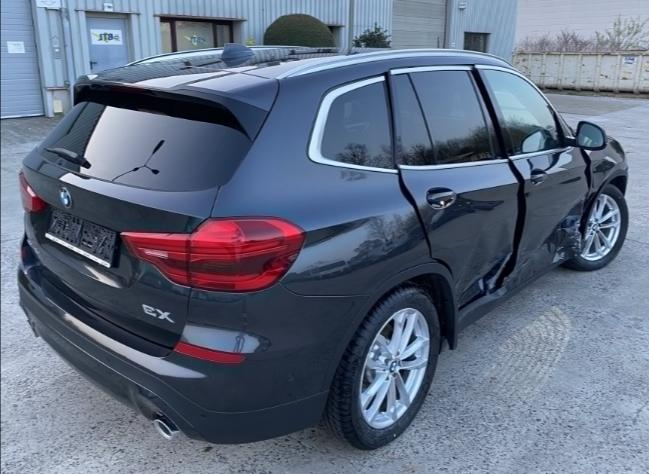Broken part: (390, 67, 518, 311), (468, 64, 589, 290), (577, 149, 611, 247)
Dent: (413, 192, 504, 287), (458, 242, 510, 314), (543, 202, 583, 265), (504, 245, 550, 288), (590, 155, 615, 192), (488, 280, 509, 298)
Missing part: (45, 205, 114, 267)
